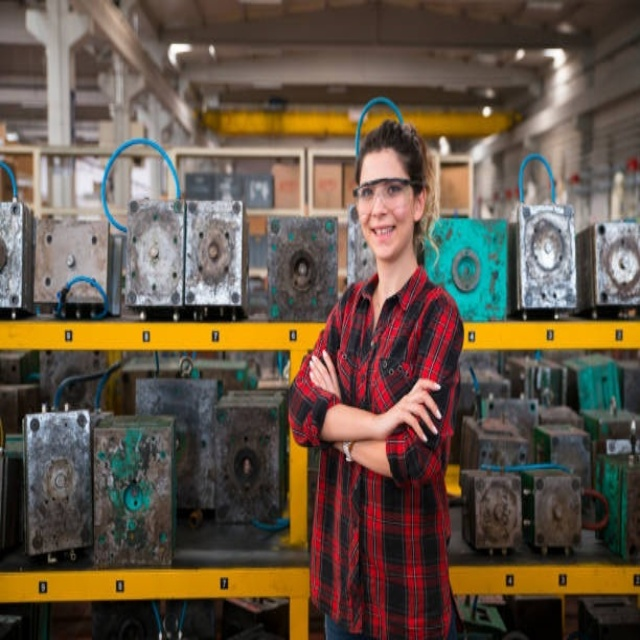Gafas: (353, 178, 420, 220)
Sin_guantes: (385, 376, 446, 447), (307, 348, 343, 403)
Sin_mascara: (368, 216, 405, 257)
